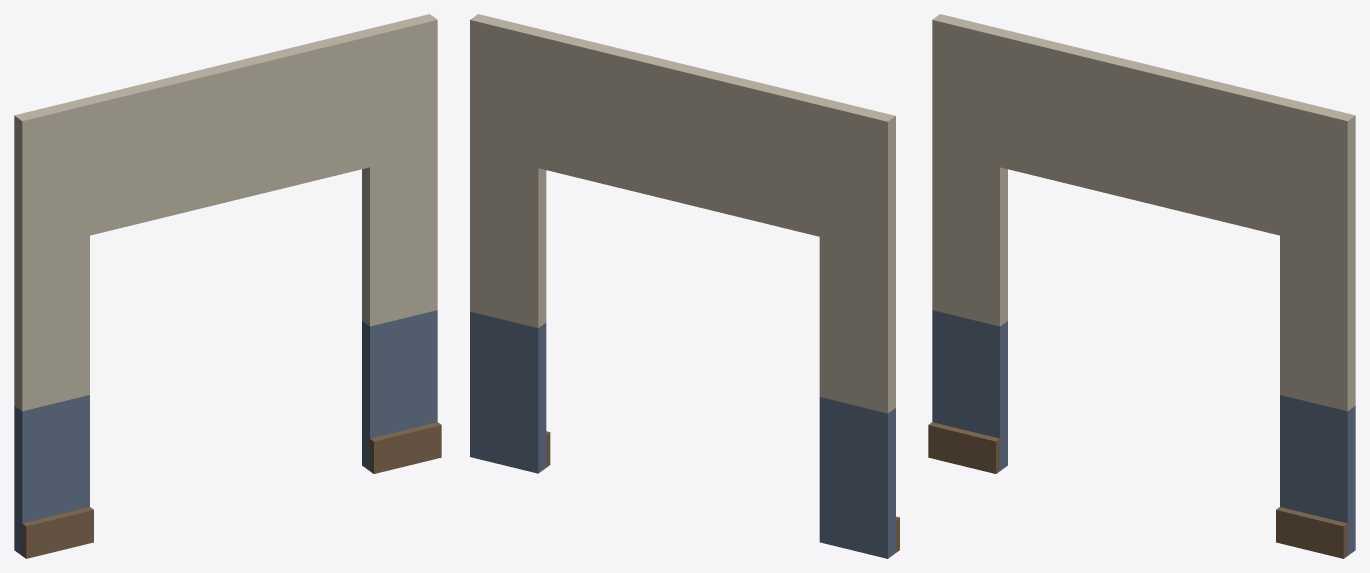
Rendered from Mesh_WallBaseboard2Colors_F4.fbx.
3 renders of one model, left to right at view 1: azimuth 30°, elevation 25°; view 2: azimuth 150°, elevation 25°; view 3: azimuth 330°, elevation 25°, orthographic.
Parts seen in each view (by area): view 1: Mesh_WallBaseboard2Colors_F4; view 2: Mesh_WallBaseboard2Colors_F4; view 3: Mesh_WallBaseboard2Colors_F4.
Boxes of the visible parts, left/top/right/bottom form: Mesh_WallBaseboard2Colors_F4: left=14, top=14, right=441, bottom=558; Mesh_WallBaseboard2Colors_F4: left=470, top=14, right=899, bottom=558; Mesh_WallBaseboard2Colors_F4: left=928, top=14, right=1355, bottom=558.
Size of the model in its own units: 3 by 3 by 0.15.
